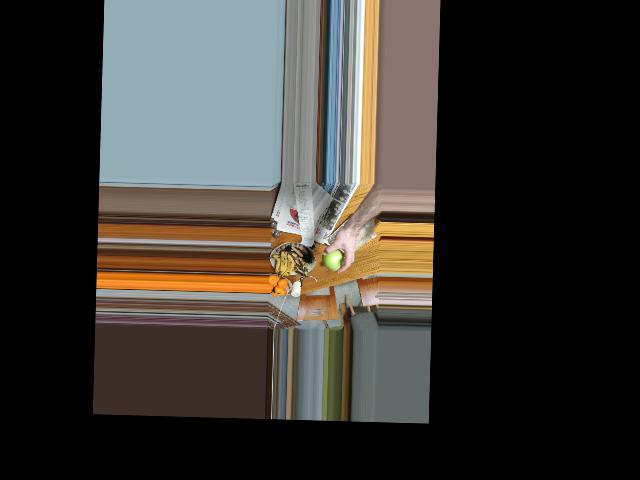apple: (321, 247, 345, 270)
